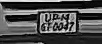0: (51, 20, 58, 33), (58, 22, 63, 31)
1: (60, 12, 64, 22)
4: (61, 22, 69, 32), (64, 12, 70, 23)
7: (68, 20, 74, 31)
F: (47, 21, 52, 32)
G: (40, 22, 46, 32)
P: (51, 11, 59, 24)
U: (45, 12, 51, 22)
